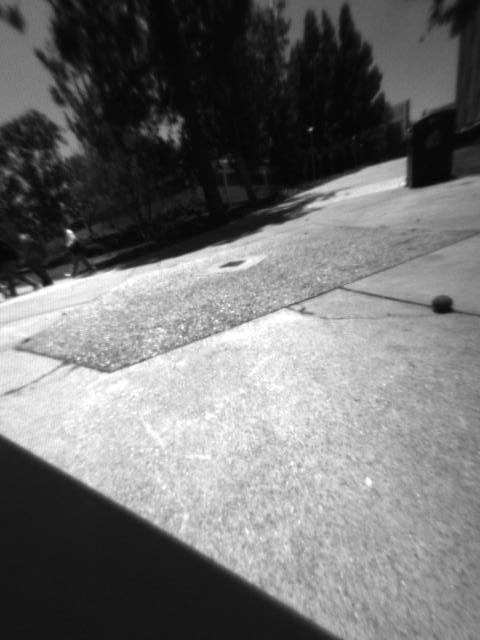dogtoy: (421, 285, 461, 321)
